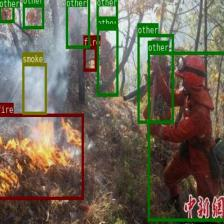fire: (0, 112, 83, 199), (83, 46, 96, 71)
smoke: (22, 62, 46, 114)
